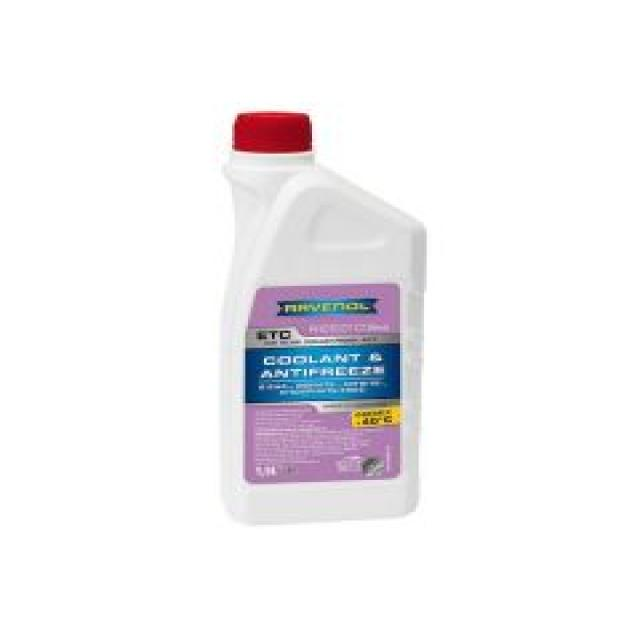coolant: (199, 99, 430, 528)
